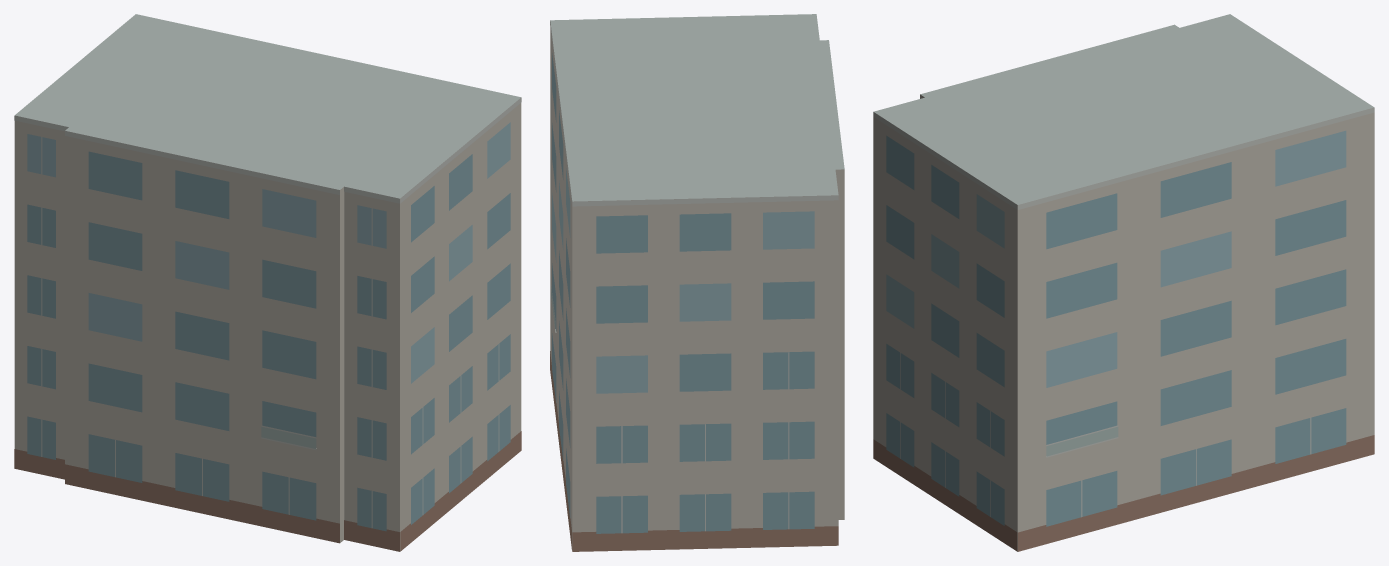
The model's file is survey-upis-32722900.glb.
3 renders of one model, left to right at view 1: azimuth 30°, elevation 25°; view 2: azimuth 150°, elevation 25°; view 3: azimuth 270°, elevation 25°, orthographic.
Parts seen in each view (by area): view 1: survey-upis-32722900.tmp; view 2: survey-upis-32722900.tmp; view 3: survey-upis-32722900.tmp.
Boxes of the visible parts, left/top/right/bottom form: survey-upis-32722900.tmp: left=14, top=14, right=521, bottom=551; survey-upis-32722900.tmp: left=550, top=14, right=844, bottom=551; survey-upis-32722900.tmp: left=873, top=14, right=1374, bottom=551.
Bounding box in the file's own units: 19.86 × 16.8 × 22.01.
